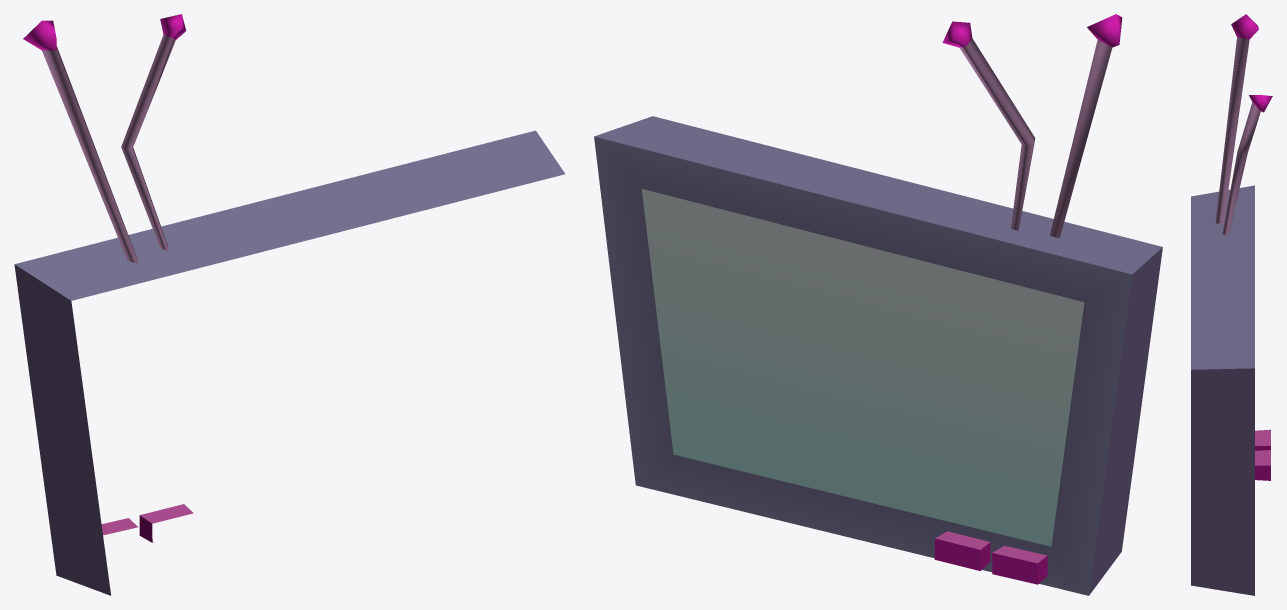
Rendered from prop-big_monitor.glb.
3 views of the same model, side by side, from view 1: azimuth 30°, elevation 25°; view 2: azimuth 150°, elevation 25°; view 3: azimuth 270°, elevation 25° (orthographic). The views are drawn at different scales.
Visible parts, largest first — view 1: prop-big_monitor; view 2: prop-big_monitor; view 3: prop-big_monitor.
Boxes of the visible parts, x1,y1,x2,y2 form: prop-big_monitor: (14, 14, 565, 595); prop-big_monitor: (594, 14, 1162, 595); prop-big_monitor: (1191, 14, 1272, 595).
Bounding box in the file's own units: 3.73 × 3.86 × 0.6862.
